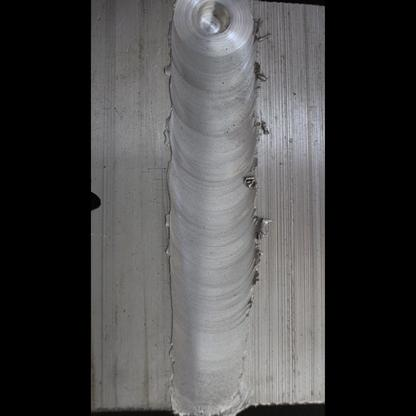cross-section reduction defect: (160, 272, 260, 407)
flash: (249, 59, 272, 283), (160, 112, 173, 147), (162, 210, 172, 230), (163, 242, 174, 256)
keyhole: (166, 1, 259, 59)
